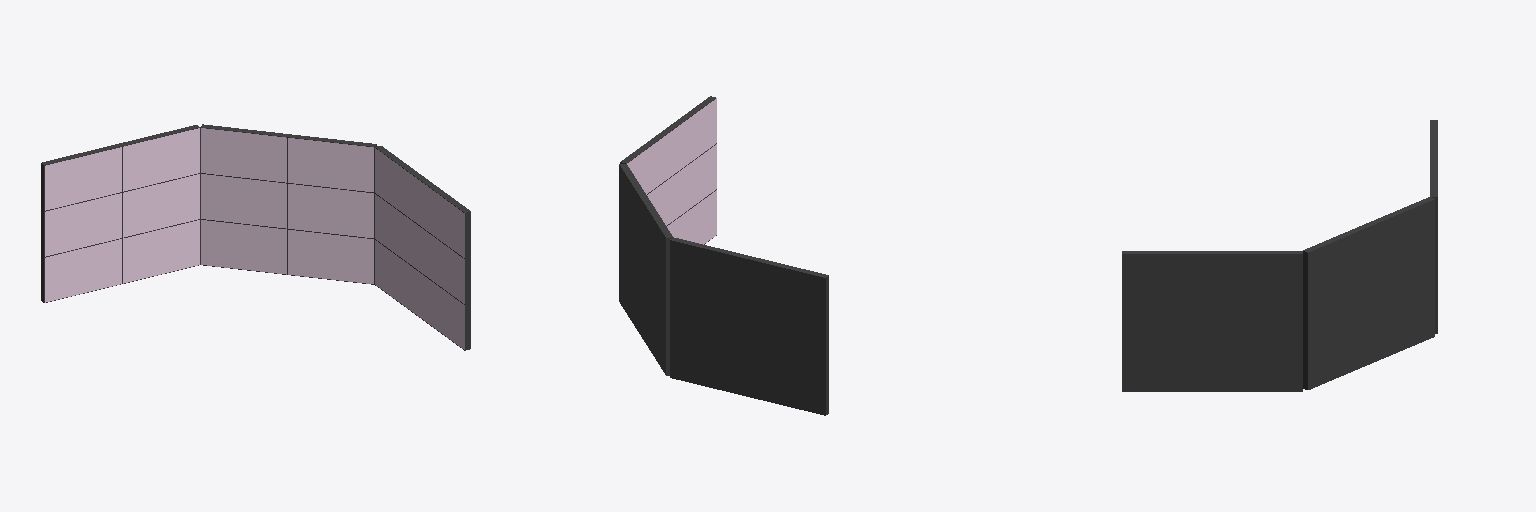
Rendered from corelogicmodel_1stscreen.obj.
3 renders of one model, left to right at view 1: azimuth 30°, elevation 25°; view 2: azimuth 150°, elevation 25°; view 3: azimuth 270°, elevation 25°, orthographic.
Parts seen in each view (by area): view 1: Mesh183_Component_3_1_Model; view 2: Mesh183_Component_3_1_Model; view 3: Mesh183_Component_3_1_Model.
Part boxes in pixels (x1,y1,x2,y2): Mesh183_Component_3_1_Model: (41,124,470,350); Mesh183_Component_3_1_Model: (619,96,828,415); Mesh183_Component_3_1_Model: (1122,120,1437,391).
Bounding box in the file's own units: 168 × 81 × 168.